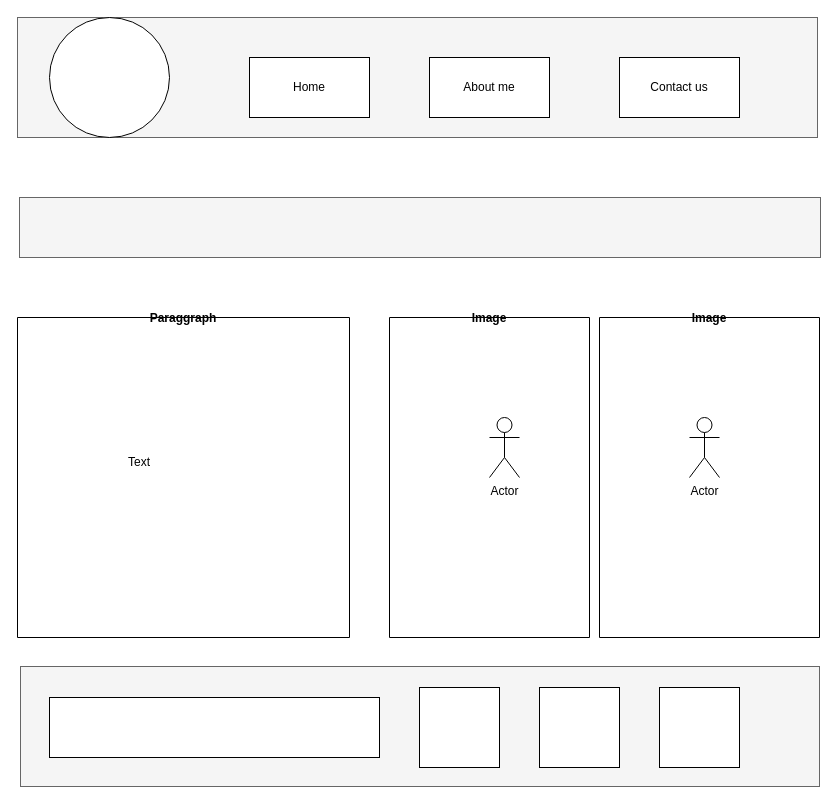
This 838x804 diagram has some shape labels left out. Each missing label, with the centre of its shape:
"Heading" goes at point 419,227.
"Logo" goes at point 109,77.
